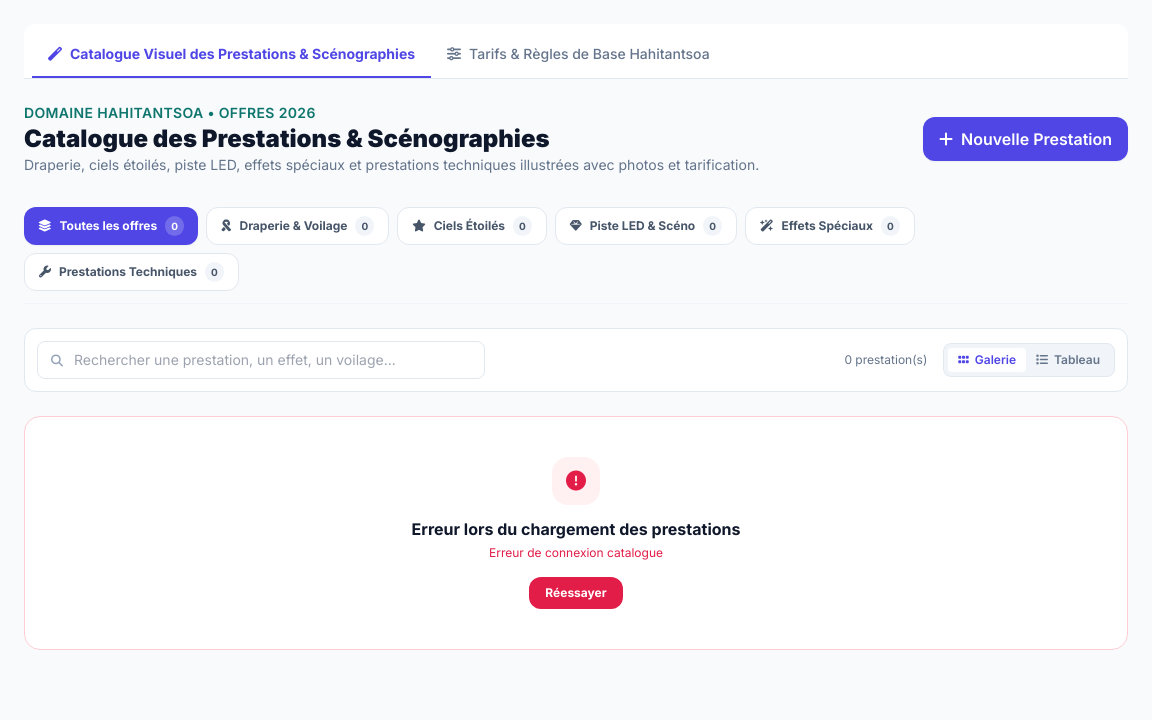
Test: ServicesPage › displays error state with retry button when loading services fails (F30)
Expected: the heading "Erreur lors du chargement des prestations" is shown, [412,519,740,539]
Expected: the text "Erreur de connexion catalogue" is shown, [489,545,663,560]
Step 1. Click the button "Réessayer" → (576, 593), box [529,577,623,609]
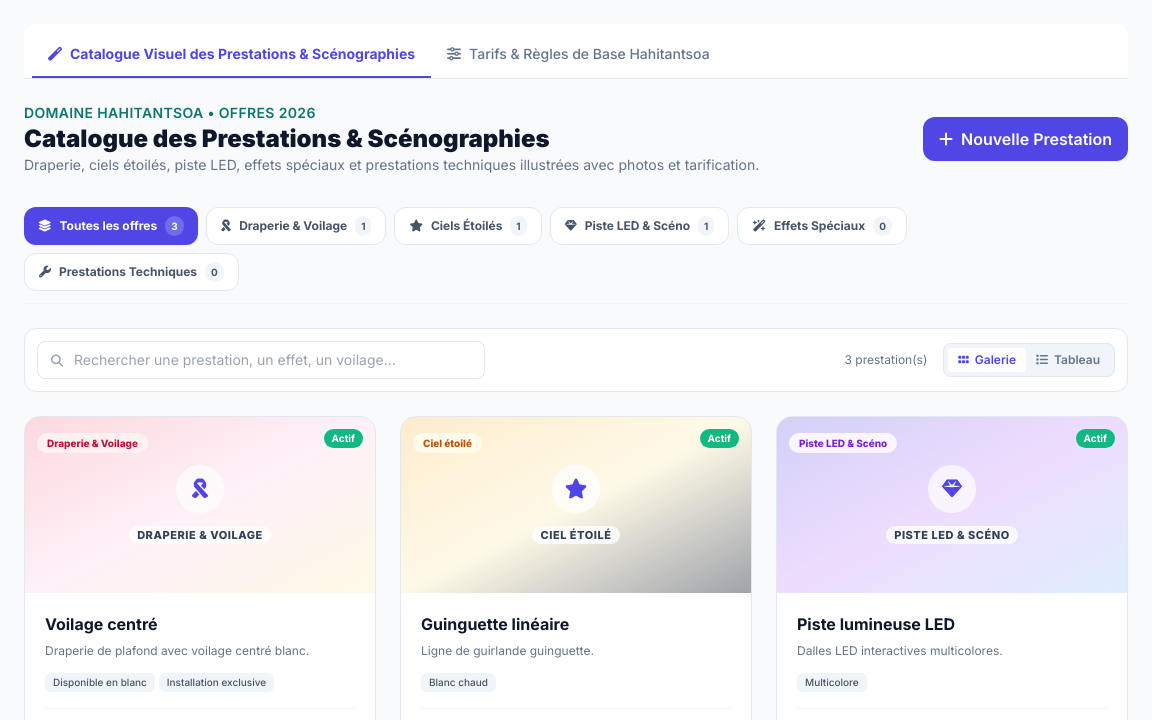
Result: the heading "Voilage centré" is shown at [45,614,158,634]
Result: the heading "Erreur lors du chargement des prestations" is gone
